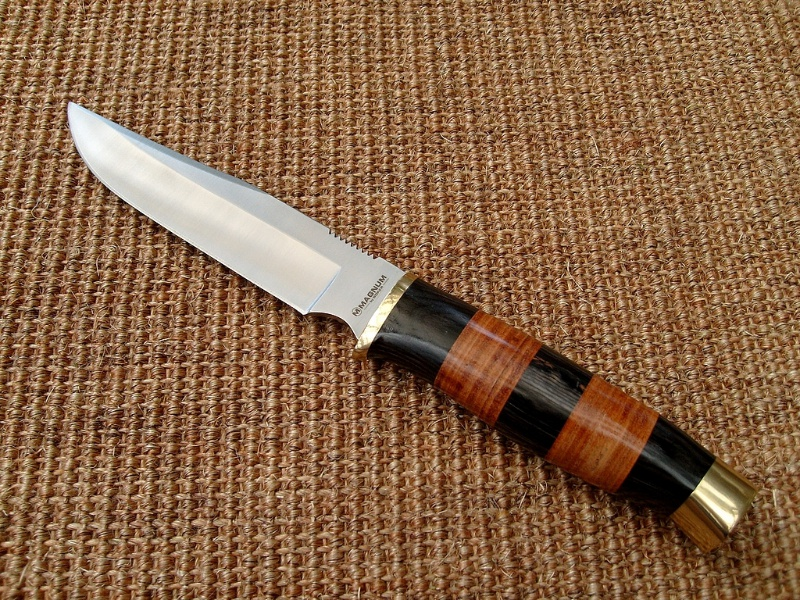knife: (62, 97, 762, 558)
